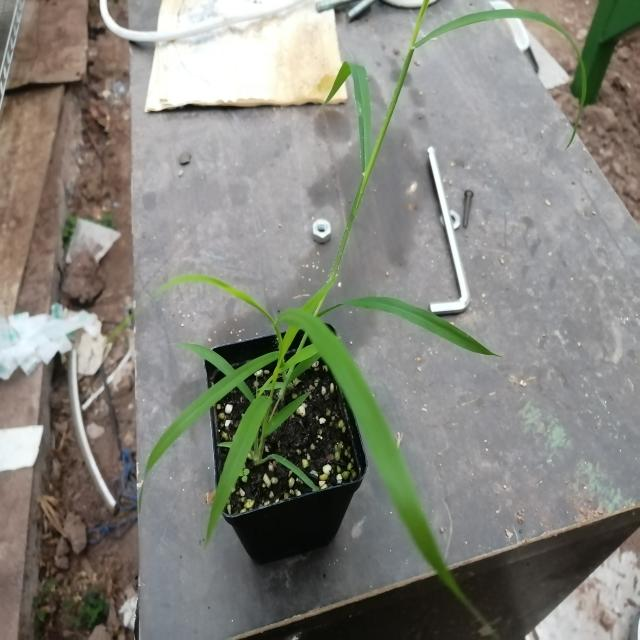crabgrass: (160, 256, 456, 578)
